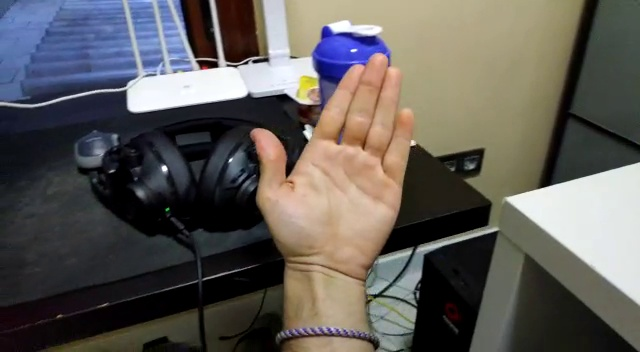Palm: (248, 46, 418, 283)
